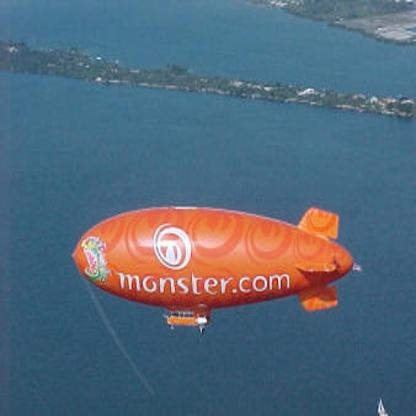Airship: (67, 202, 366, 333)
